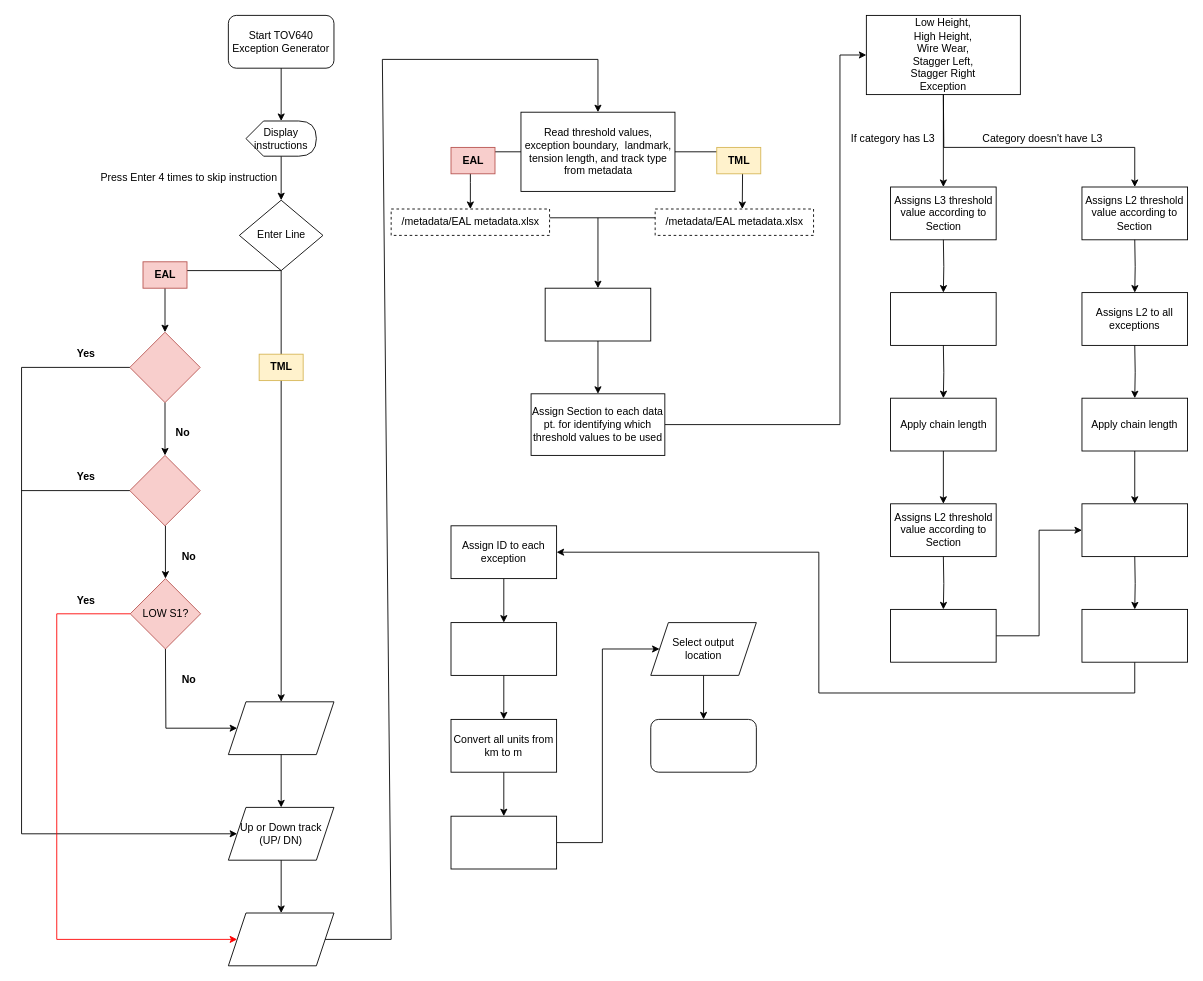
The diagram is 1203 pixels wide and 981 high, and some of its shapes have lost their labels. Here are the shapes that lost their labels. From the top down, the centre of each, then its label:
At (597,314): "Clean up .datac".
At (943,318): "Assigns L3 to all exceptions".
At (164,367): "LMC?".
At (164,490): "RAC?".
At (1134,530): "Assigns L1 threshold value according to Section".
At (503,648): "Assigns Track Type, Tension Length, Landmark to each found exception".
At (943,635): "Assigns L2 to found L2 exceptions".
At (1134,635): "Assigns L1 to found L1 exceptions".
At (280,728): "Enter Section (e.g. FOT-HUH)".
At (703,745): "Exception Report generated and stored".
At (503,842): "Sort each exception table by ID".
At (280,939): "Input .datac".
